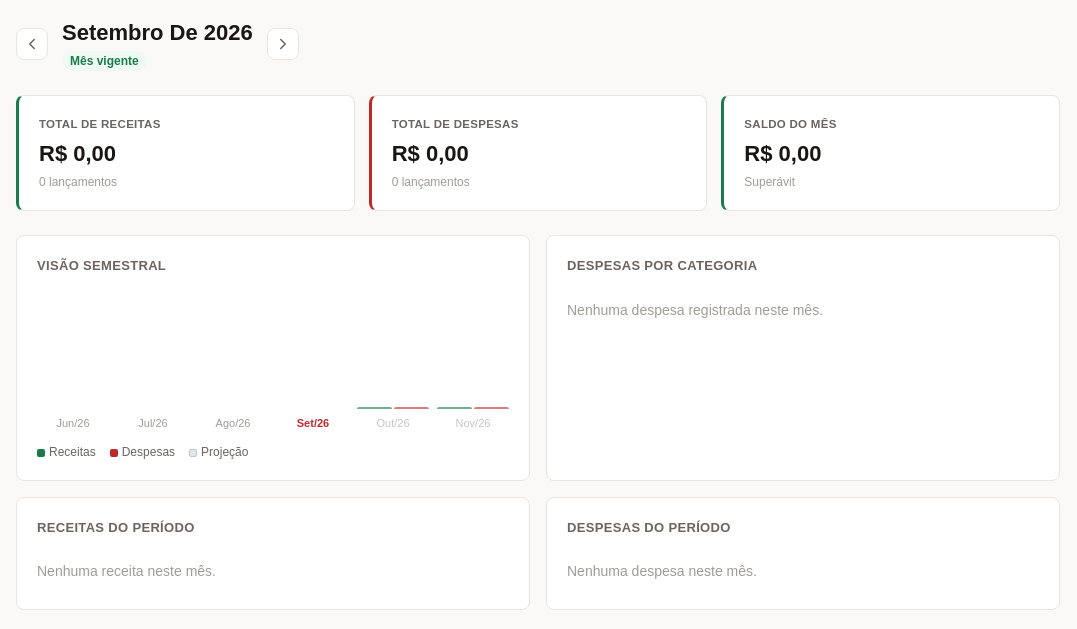
Scenario: dashboard: navegação de mês › "← Mês atual" volta para o mês corrente
Click the button named "Mês anterior" at x=32, y=44, box [16,28,48,60]
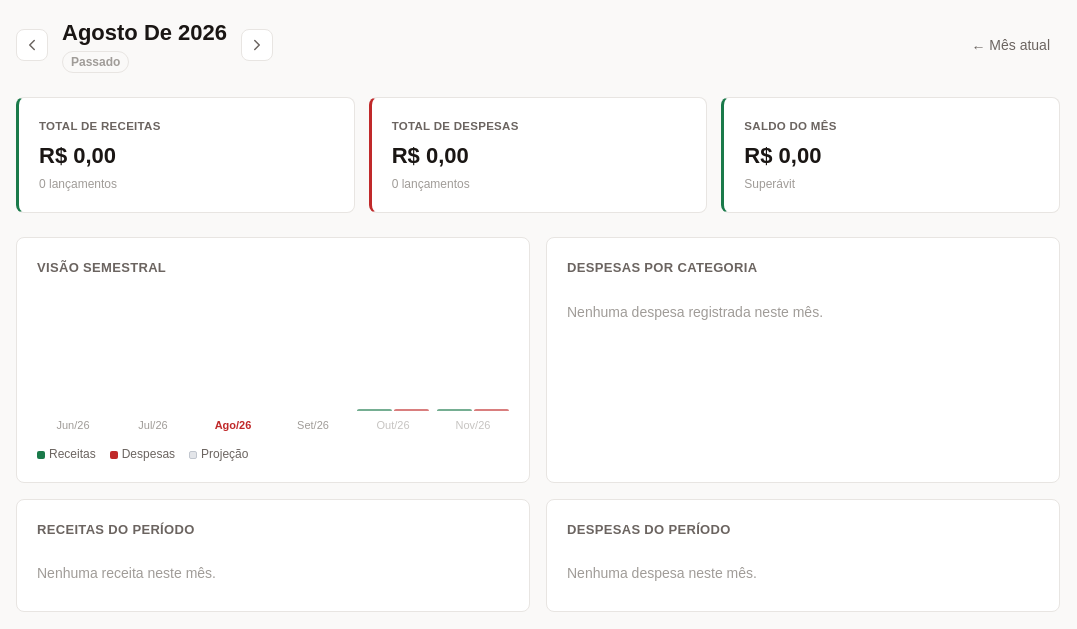
Now the text "Agosto de 2026" is shown, box [62,16,227,49]
Click the button "← Mês atual" at x=1011, y=44, box [961,28,1060,60]
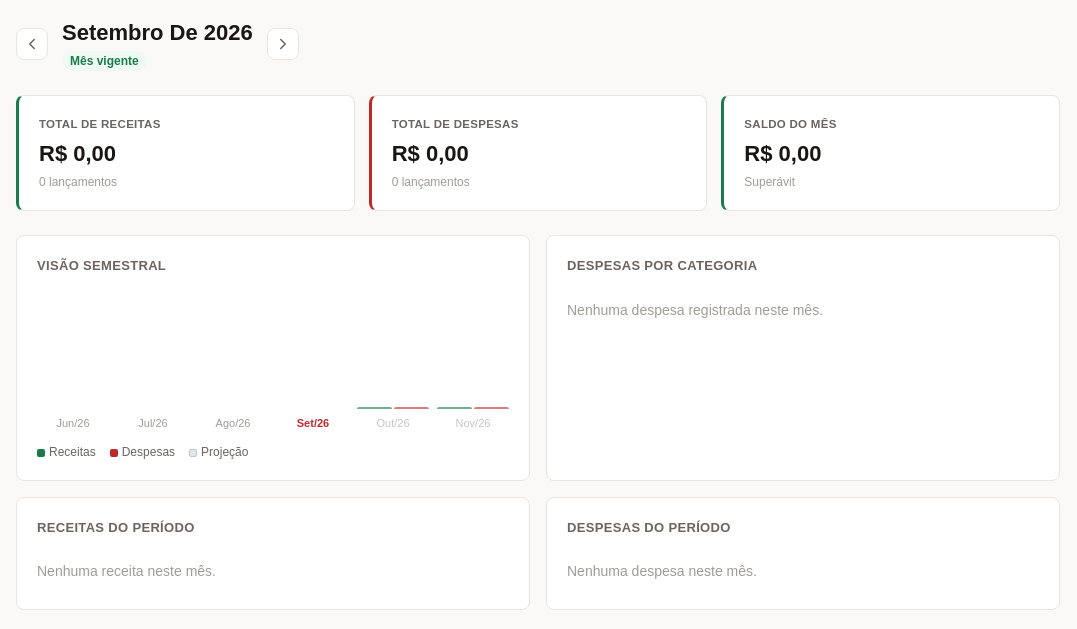
Now the text "Setembro de 2026" is shown, box [62,16,253,49]
Now the text "Mês vigente" is shown, box [62,51,147,71]
